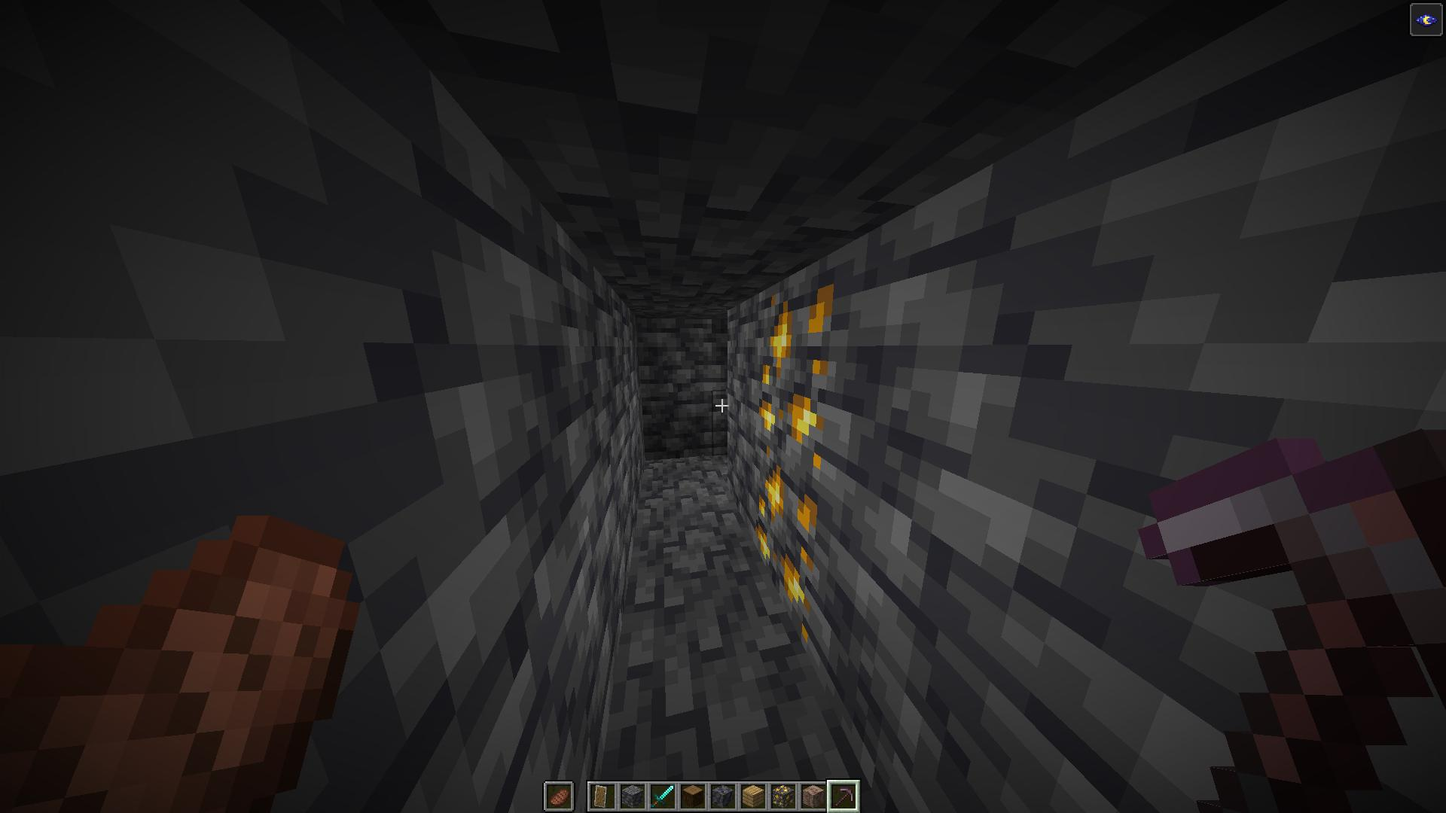gold ore: (752, 409, 823, 648), (760, 277, 836, 444)
